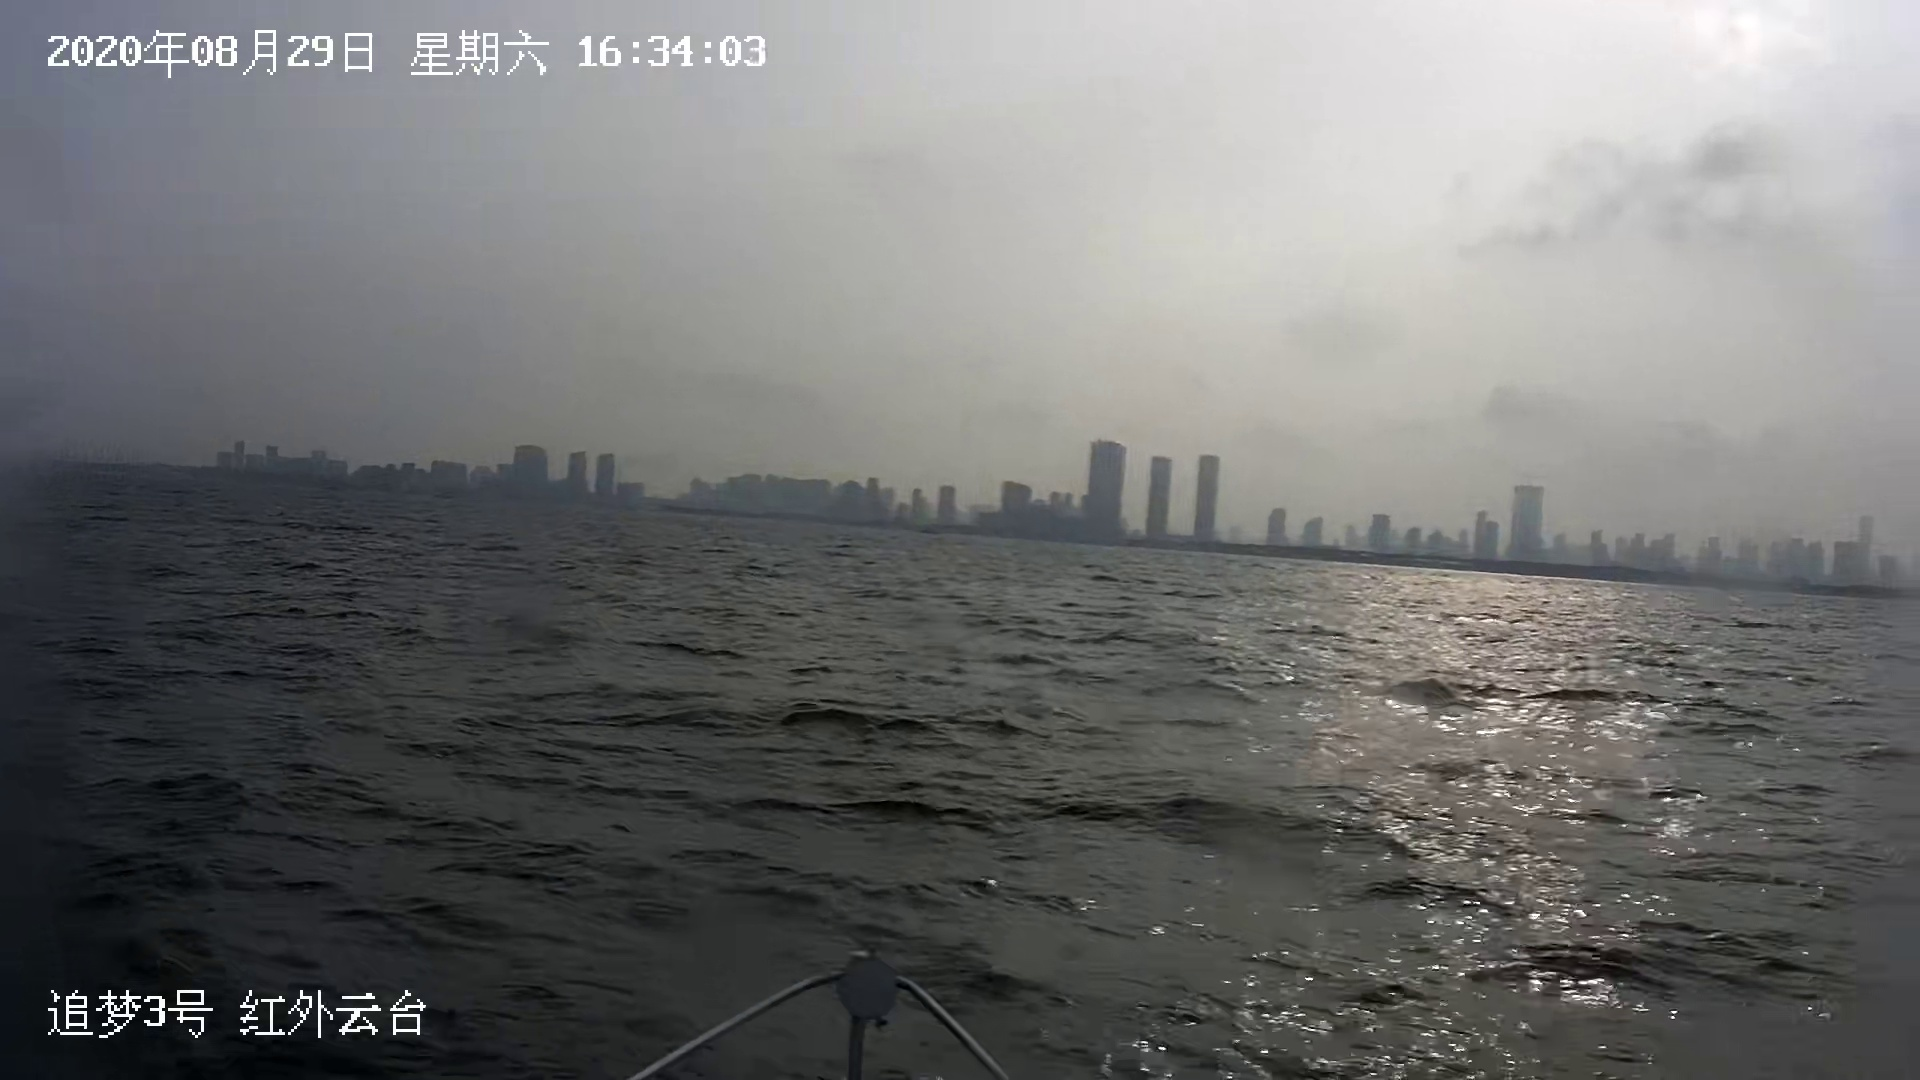coast: (36, 435, 1920, 599)
